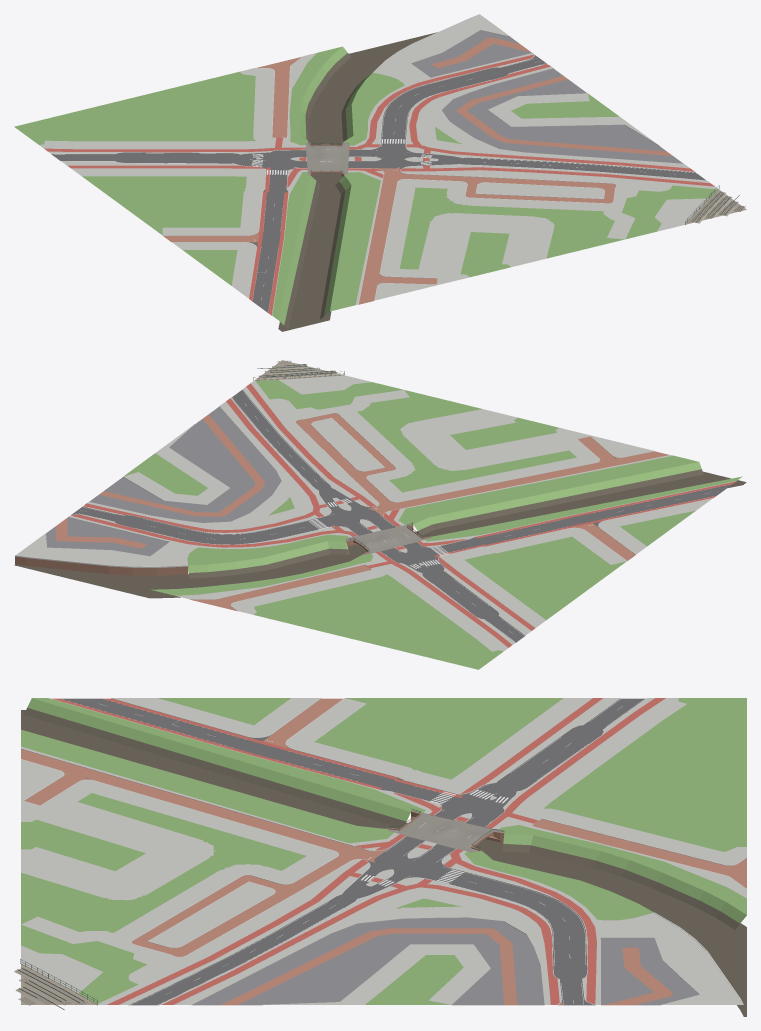
File: ground_4_6.glb
3 renders of one model, top to bottom at view 1: azimuth 30°, elevation 25°; view 2: azimuth 150°, elevation 25°; view 3: azimuth 270°, elevation 25°, orthographic. The views are drawn at different scales.
Visible parts, largest first — view 1: ground_4_6; view 2: ground_4_6; view 3: ground_4_6.
Boxes of the visible parts, left/top/right/bottom form: ground_4_6: left=14, top=14, right=746, bottom=331; ground_4_6: left=14, top=360, right=746, bottom=669; ground_4_6: left=14, top=698, right=746, bottom=1016.
Bounding box in the file's own units: 204 × 5.17 × 202.
